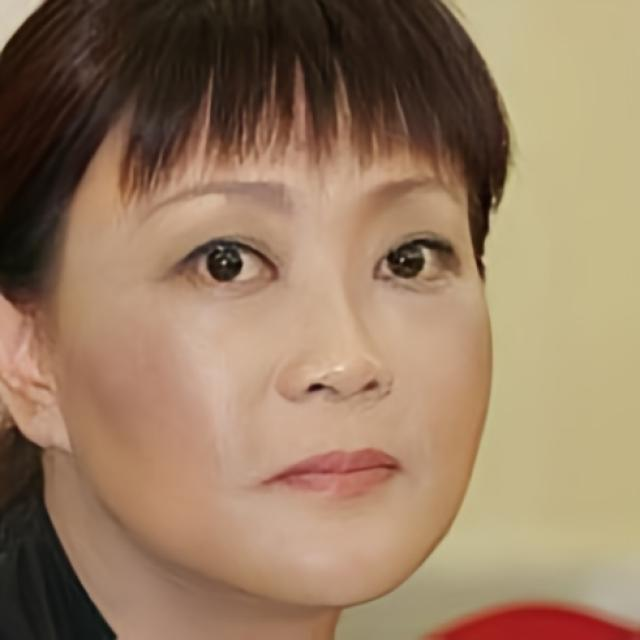neutral: (70, 68, 493, 608)
